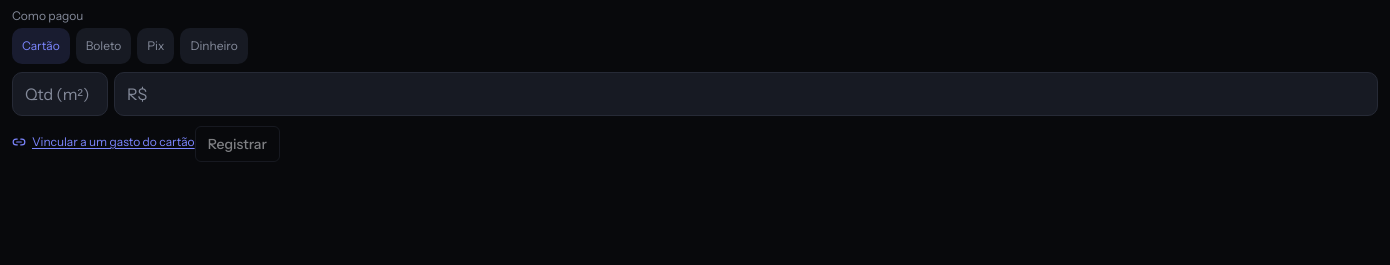
Scenario: NovaCompra › avisa, na hora de lançar, quando o projeto não tem categoria
Click the button "Pix". click: (156, 46)
box: [137,28,174,64]
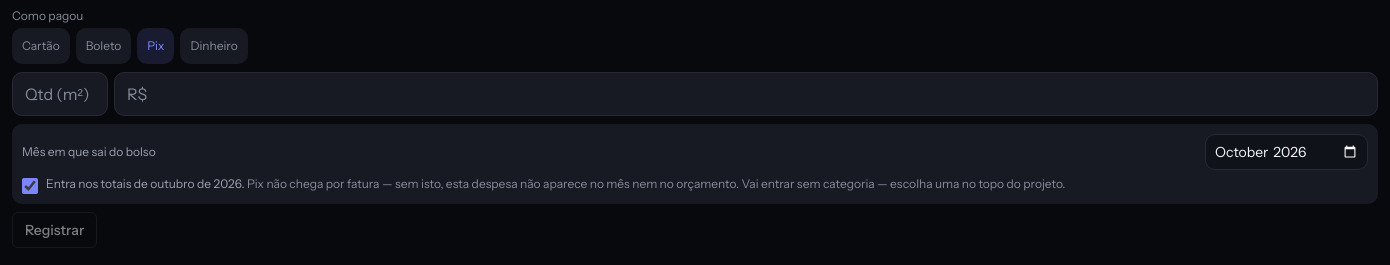
Expected: the text "Vai entrar sem categoria" is shown, [739,176,1065,191]
